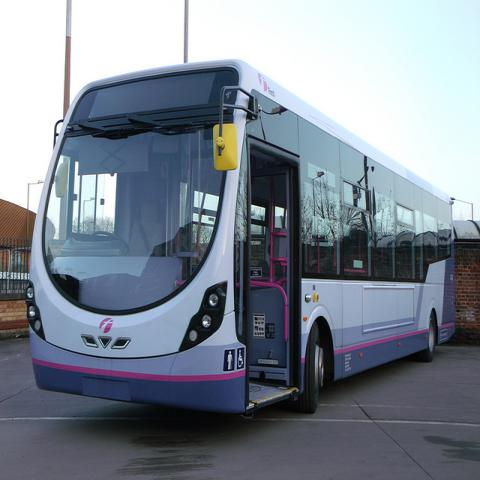bus: (24, 53, 455, 417)
